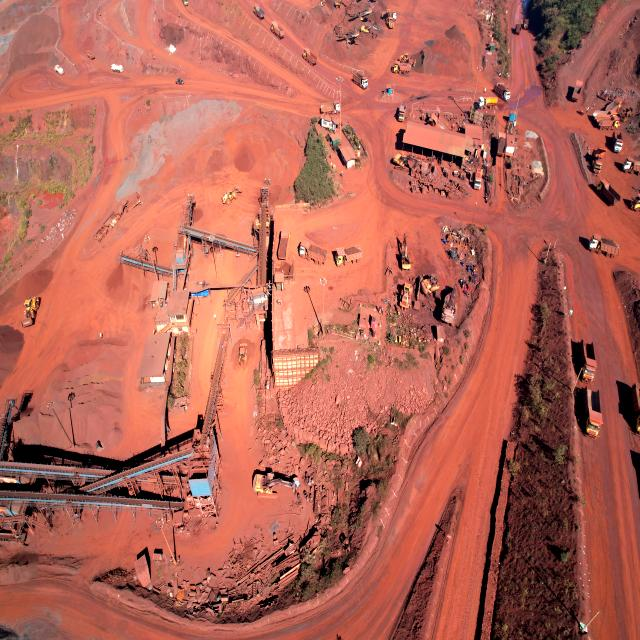Dumper truck: (585, 386, 602, 440), (300, 237, 324, 264), (580, 340, 596, 380), (336, 245, 361, 268), (629, 386, 640, 435), (589, 237, 617, 256), (279, 232, 291, 260), (598, 115, 622, 128), (592, 147, 603, 174), (600, 182, 616, 200), (594, 110, 618, 122), (570, 78, 582, 101), (623, 156, 640, 172), (270, 20, 284, 39), (606, 97, 623, 112), (393, 61, 411, 75), (320, 102, 340, 114), (302, 49, 317, 65), (354, 73, 368, 89), (613, 131, 623, 153), (498, 83, 510, 100), (631, 188, 640, 210), (397, 102, 407, 120), (253, 4, 265, 19), (499, 132, 505, 155), (629, 199, 640, 209), (515, 23, 521, 34), (523, 18, 529, 29)
Excavator: (252, 472, 298, 494), (443, 287, 456, 327), (397, 237, 409, 270), (422, 276, 438, 295), (391, 153, 410, 167), (334, 0, 344, 9)
car: (176, 80, 183, 86)
person: (214, 314, 217, 320), (100, 333, 102, 339)
